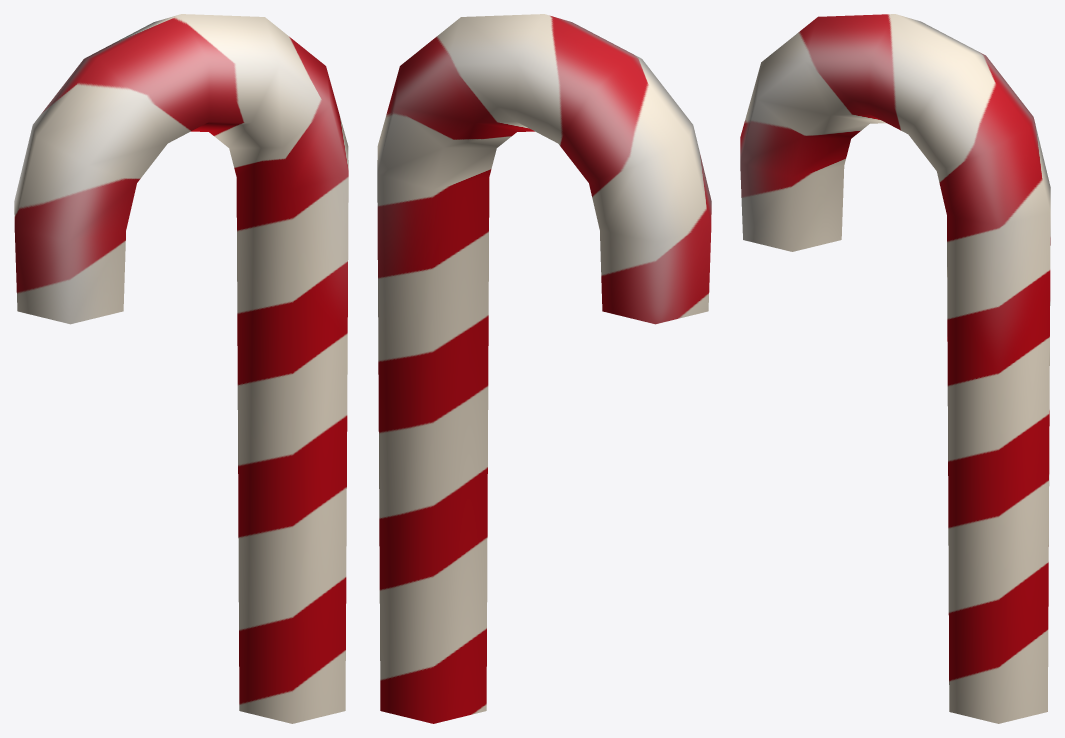
Rendered from Candy.FBX.
The picture shows the model from 3 angles, left to right: view 1: azimuth 30°, elevation 25°; view 2: azimuth 150°, elevation 25°; view 3: azimuth 330°, elevation 25°; orthographic projection. The views are drawn at different scales.
Visible parts, largest first — view 1: Candy; view 2: Candy; view 3: Candy.
Part boxes in pixels (x1,y1,x2,y2): Candy: (14,14,348,723); Candy: (377,14,711,723); Candy: (740,14,1050,723).
Bounding box in the file's own units: 183 × 374 × 53.84.
